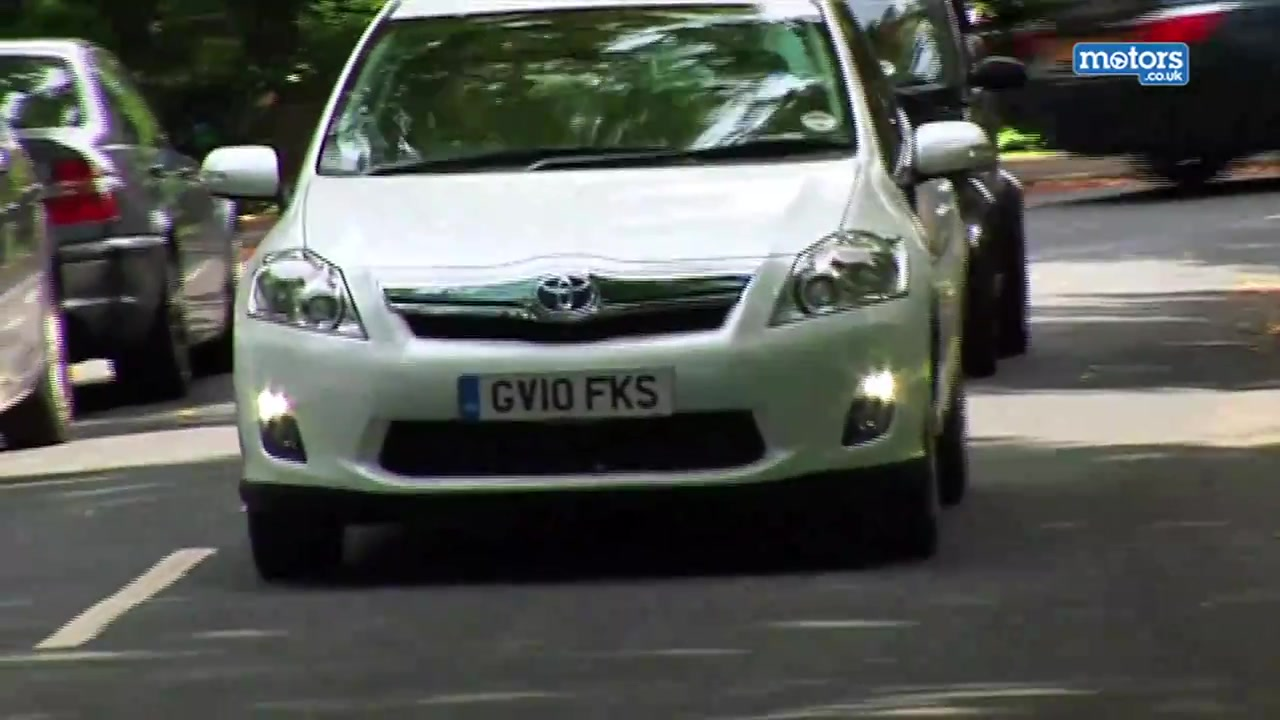car: (196, 2, 994, 582), (2, 38, 241, 399), (833, 1, 1032, 390), (973, 1, 1280, 187), (1, 104, 76, 461)
